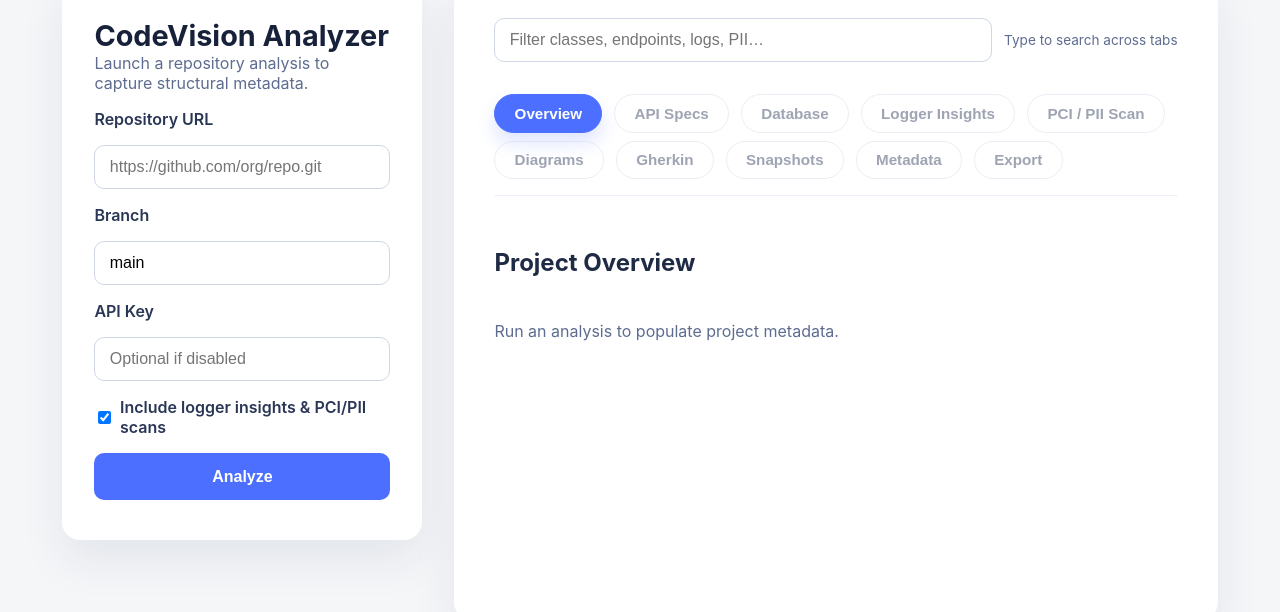
Test: App › shows an error message when analysis fails
Type "https://example.com/org/repo.git" into the field labelled "Repository URL" at [242, 167], box [94,145,390,189]
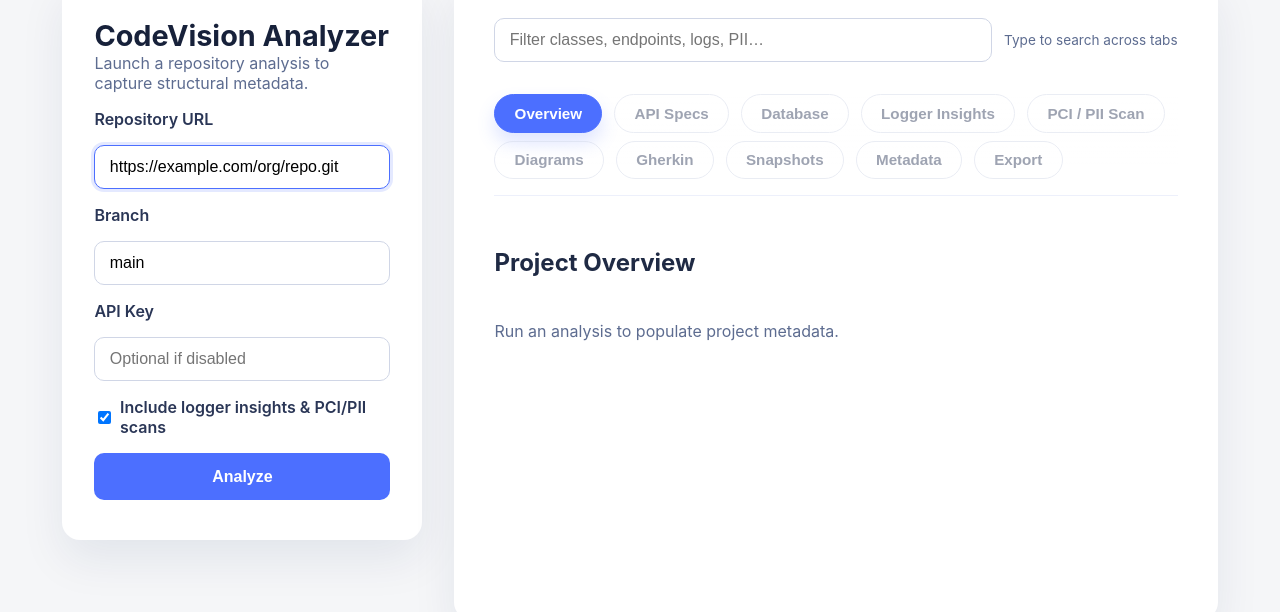
Click the button "Analyze" at [242, 477], box [94,453,390,500]
(page scrolled)
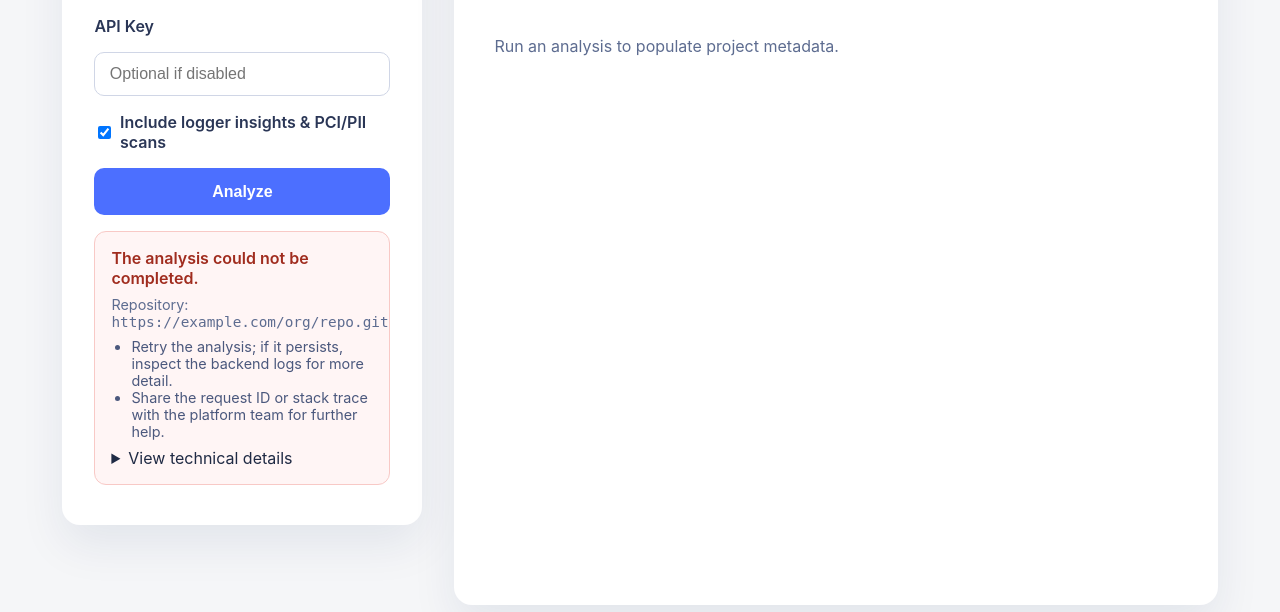
expect the text "The analysis could not be completed." is shown: met, box [111,248,309,288]
expect the list item "Retry the analysis" is shown: met, box [131,338,364,389]
